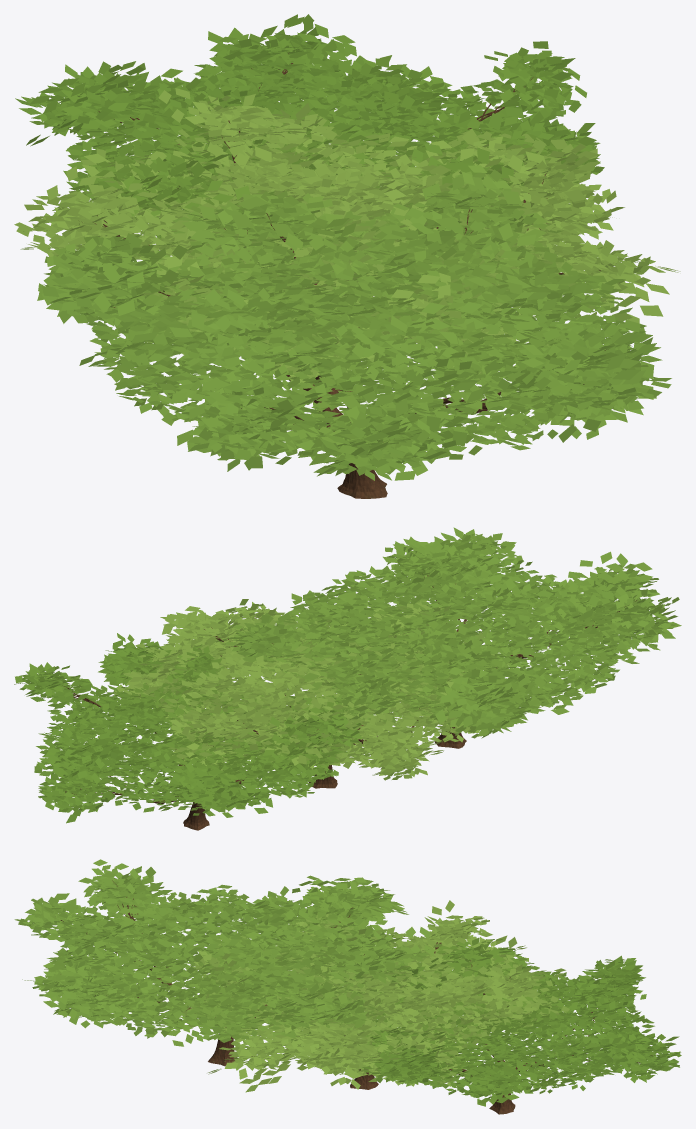
File: Acacia.glb
The picture shows the model from 3 angles, top to bottom: view 1: azimuth 30°, elevation 25°; view 2: azimuth 150°, elevation 25°; view 3: azimuth 270°, elevation 25°; orthographic projection. The views are drawn at different scales.
Visible parts, largest first — view 1: GLB Added canopy fill | tree 1.004, GLB Tree 1 | foliage.004, GLB Tree 2 | foliage.004, GLB Tree 3 | foliage.004, GLB Added canopy fill | tree 3.004, GLB Added canopy fill | tree 2.004, GLB Tree 1 | flared trunk.004; view 2: GLB Added canopy fill | tree 1.004, GLB Tree 1 | foliage.004, GLB Tree 3 | foliage.004, GLB Added canopy fill | tree 3.004, GLB Tree 2 | foliage.004, GLB Added canopy fill | tree 2.004; view 3: GLB Added canopy fill | tree 1.004, GLB Tree 1 | foliage.004, GLB Tree 2 | foliage.004, GLB Added canopy fill | tree 3.004, GLB Tree 3 | foliage.004, GLB Added canopy fill | tree 2.004, GLB Tree 1 | flared trunk.004.
Boxes of the visible parts, <box> form: GLB Added canopy fill | tree 1.004: <box>79,210,646,475</box>; GLB Tree 1 | foliage.004: <box>37,165,671,480</box>; GLB Tree 2 | foliage.004: <box>14,88,680,383</box>; GLB Tree 3 | foliage.004: <box>15,14,604,218</box>; GLB Added canopy fill | tree 3.004: <box>63,54,526,238</box>; GLB Added canopy fill | tree 2.004: <box>76,132,598,367</box>; GLB Tree 1 | flared trunk.004: <box>337,463,387,498</box>; GLB Added canopy fill | tree 1.004: <box>276,559,639,729</box>; GLB Tree 1 | foliage.004: <box>216,527,681,738</box>; GLB Tree 3 | foliage.004: <box>14,633,366,823</box>; GLB Added canopy fill | tree 3.004: <box>36,676,353,812</box>; GLB Tree 2 | foliage.004: <box>114,599,510,780</box>; GLB Added canopy fill | tree 2.004: <box>155,616,475,768</box>; GLB Added canopy fill | tree 1.004: <box>48,884,395,1046</box>; GLB Tree 1 | foliage.004: <box>14,859,434,1052</box>; GLB Tree 2 | foliage.004: <box>169,900,569,1092</box>; GLB Added canopy fill | tree 3.004: <box>362,966,654,1097</box>; GLB Tree 3 | foliage.004: <box>358,937,681,1106</box>; GLB Added canopy fill | tree 2.004: <box>215,927,506,1075</box>; GLB Tree 1 | flared trunk.004: <box>208,1027,236,1066</box>.
Bounding box in the file's own units: 43.13 × 12.3 × 57.55.
4 materials, 1 textured.
